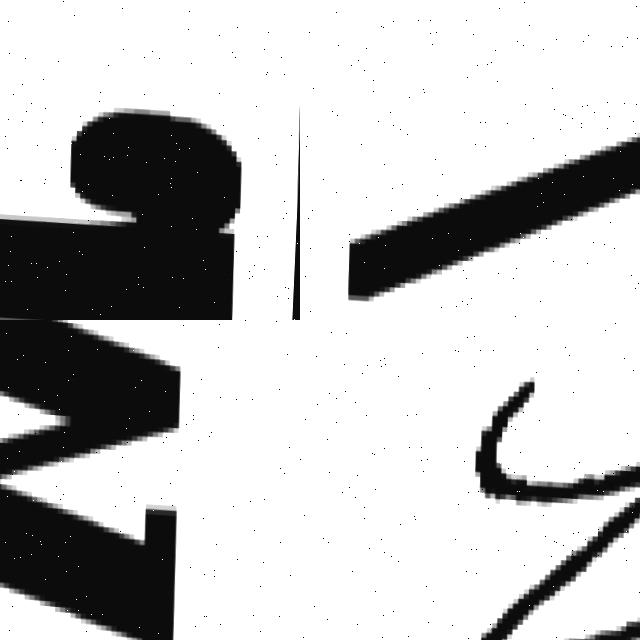7: (344, 14, 640, 320)
M: (443, 359, 640, 640)
R: (0, 65, 259, 320)
W: (0, 320, 210, 640)
